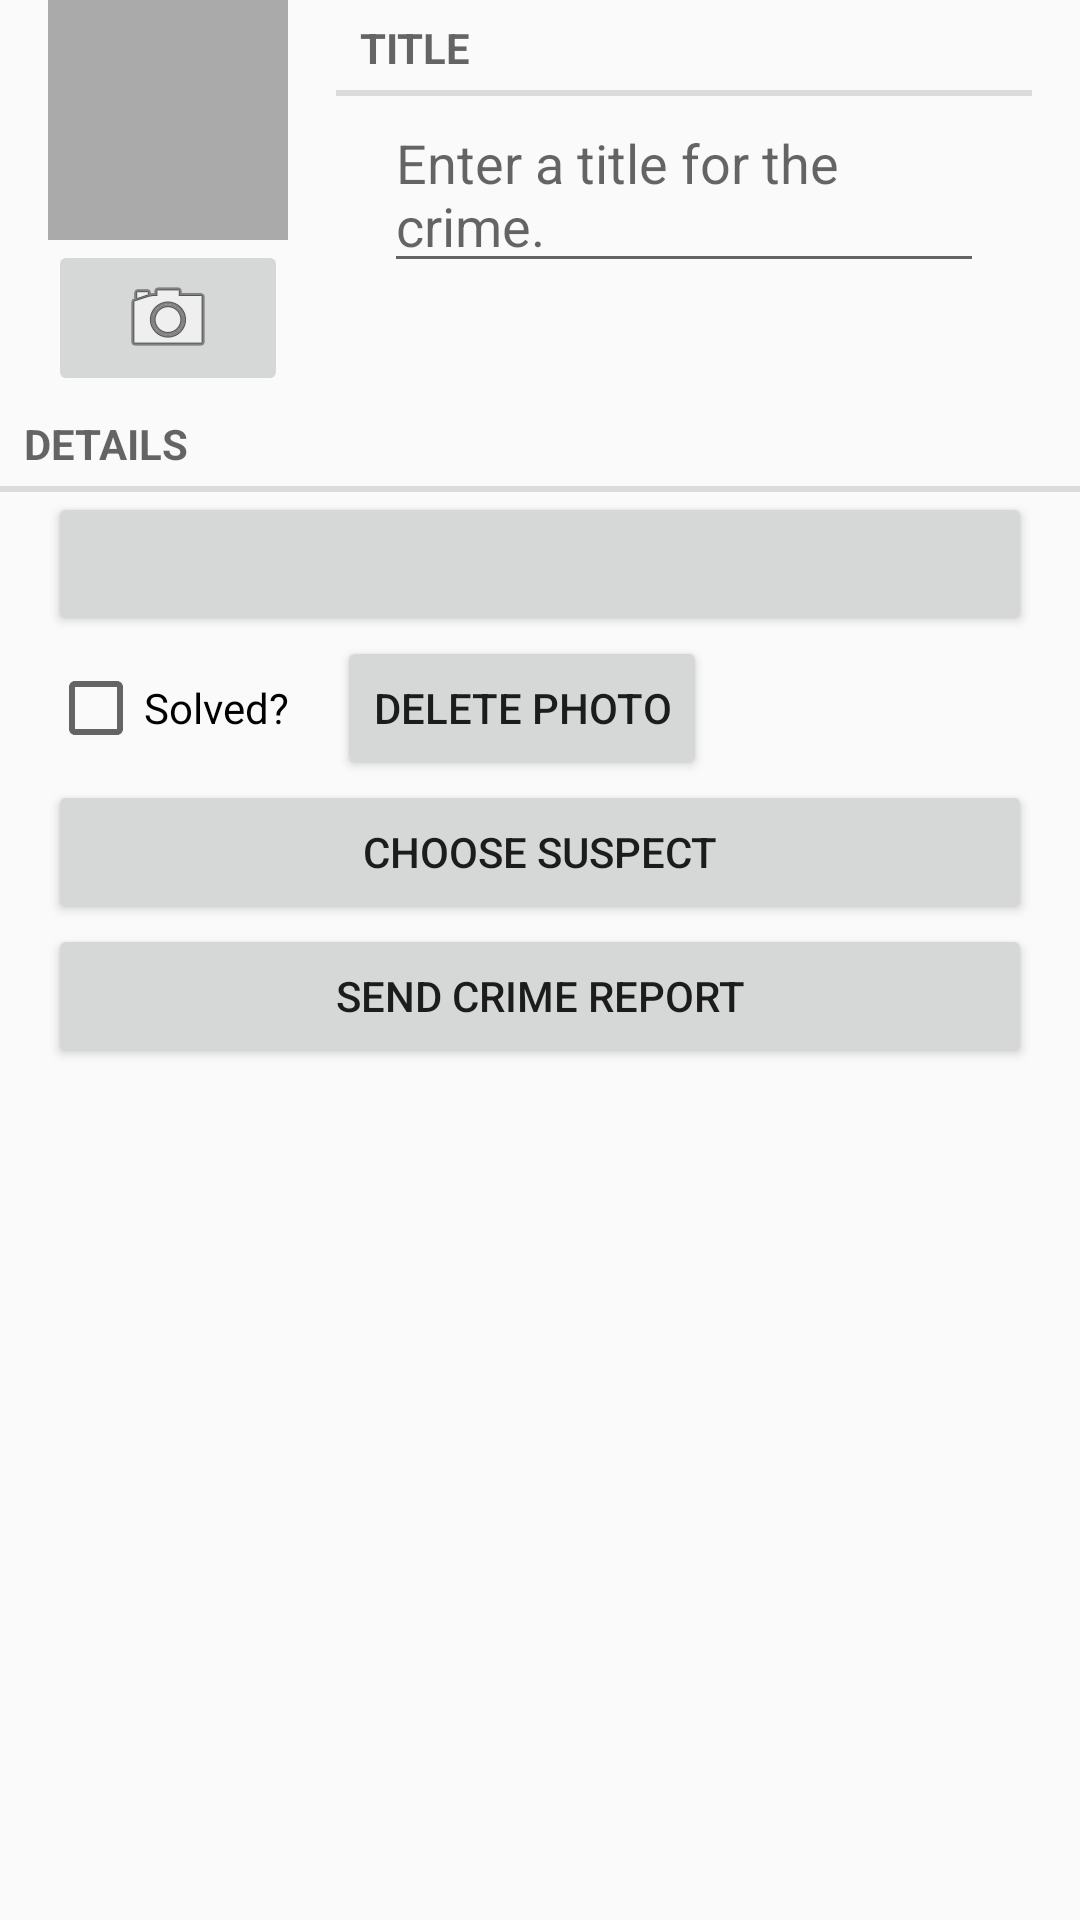

Icon bounding boxes for this 1080w x 1920h phone screenshot, format (x1, y1, x2, y2):
camera: (60, 258, 276, 378)
